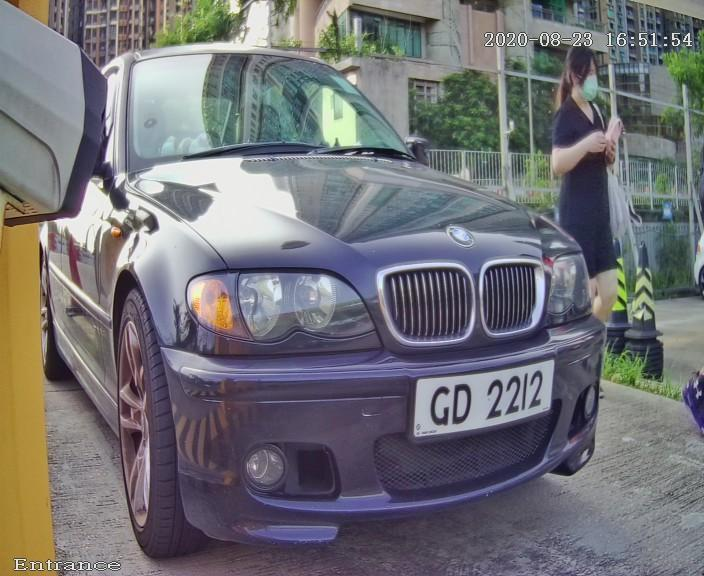Car: (23, 11, 664, 571)
License Plate: (396, 337, 575, 464)
